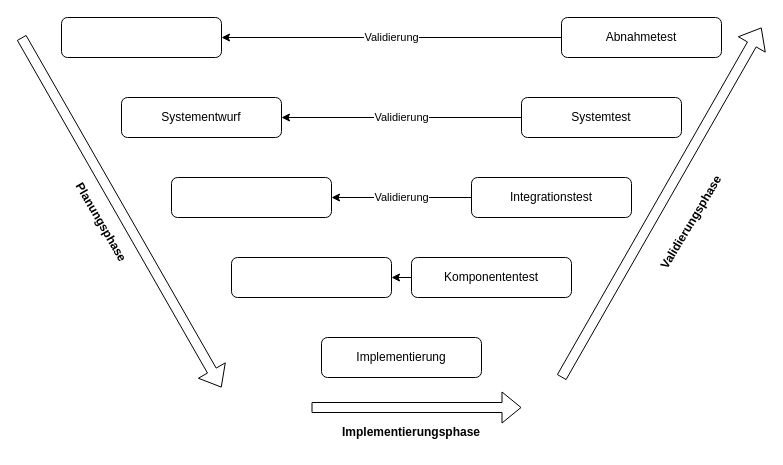
Image size: 783x465. Some labels were removed from this diagram. The shapes that lost their labels are listed below. From the top down, each one's centre as x and y in pixels, then its label:
point (141, 37): Systemanforderungen
point (251, 197): Architektur
point (311, 277): Komponentenspezifikation
